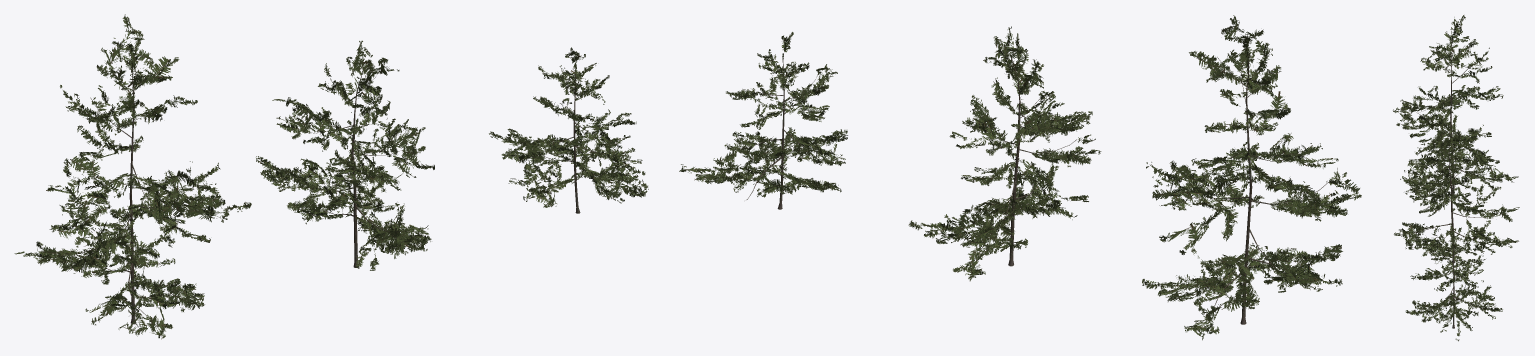
Rendered from fir_sapling.glb.
3 renders of one model, left to right at view 1: azimuth 30°, elevation 25°; view 2: azimuth 150°, elevation 25°; view 3: azimuth 270°, elevation 25°, orthographic. The views are drawn at different scales.
Parts seen in each view (by area): view 1: fir_sapling_a, fir_sapling_b, fir_sapling_c; view 2: fir_sapling_a, fir_sapling_b, fir_sapling_c; view 3: fir_sapling_a, fir_sapling_b, fir_sapling_c.
Boxes of the visible parts, x1,y1,x2,y2 form: fir_sapling_a: (14,14,251,339); fir_sapling_b: (256,40,434,270); fir_sapling_c: (489,47,648,213); fir_sapling_a: (1142,15,1361,340); fir_sapling_b: (908,26,1101,281); fir_sapling_c: (679,32,847,209); fir_sapling_a: (1393,15,1518,211); fir_sapling_b: (1394,129,1519,274); fir_sapling_c: (1405,223,1502,341).
Bounding box in the file's own units: 2.75 × 1.31 × 0.8341.
2 materials, 2 textured.
